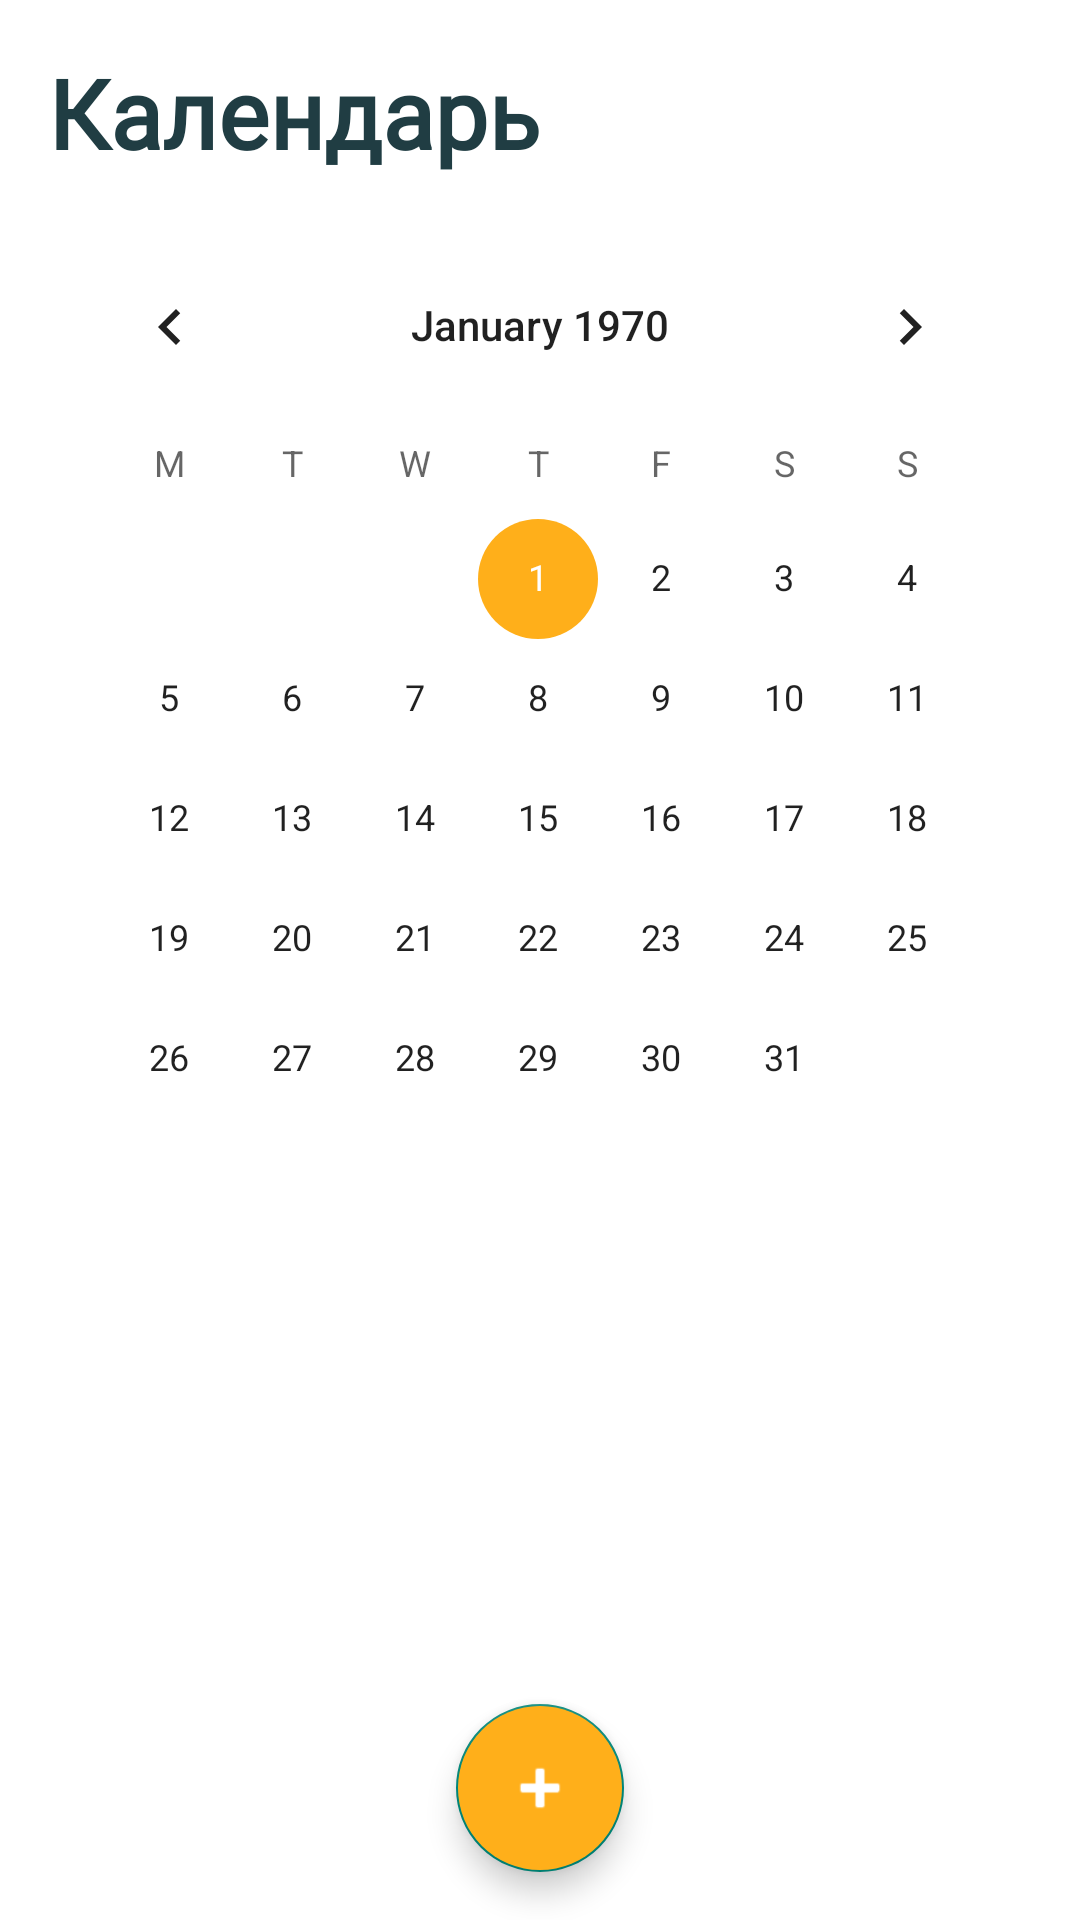

Icon bounding boxes for this 1080px×1920px phone screenshot, format bbox=(x1, y1, x2, y2):
Новая запись: bbox=(456, 1704, 624, 1872)
